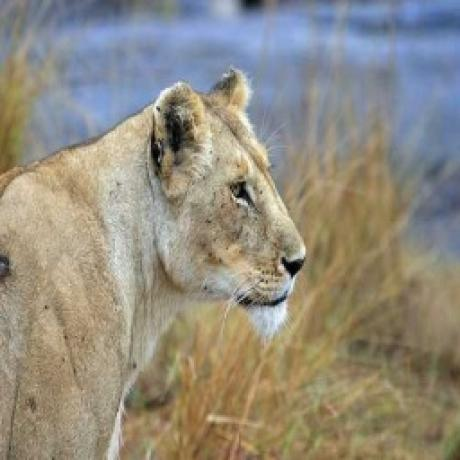Lion: (0, 62, 315, 460)
